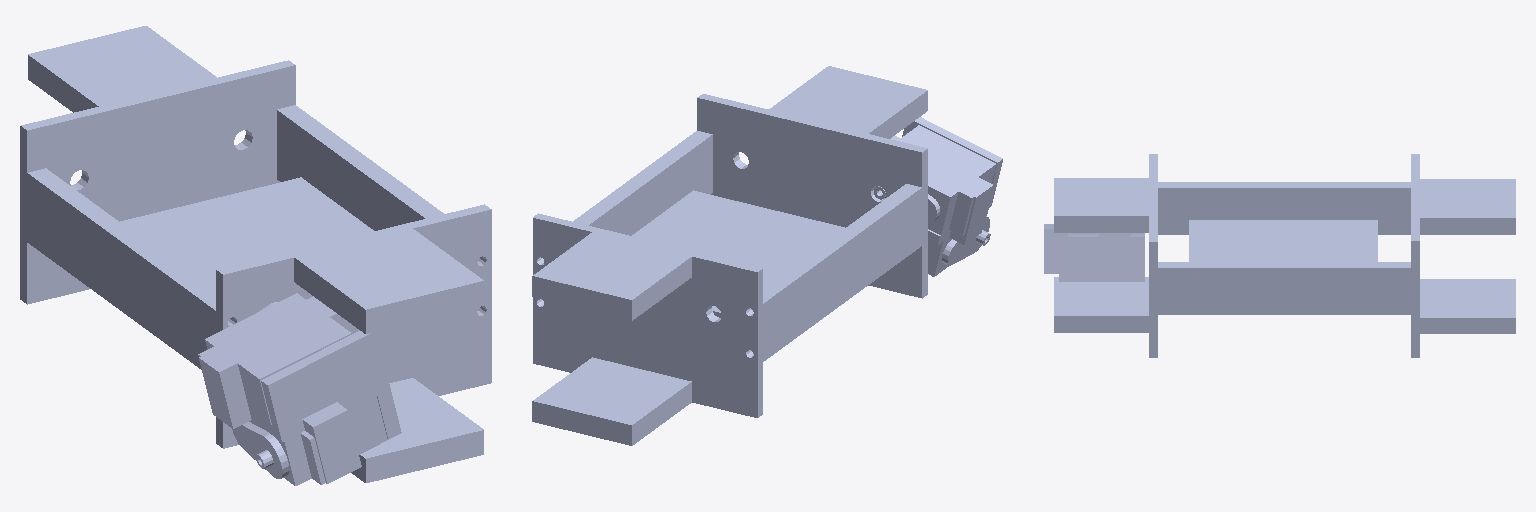
URDF robot description (chyPapa4):
<?xml version="1.0" encoding="utf-8"?>
<!-- This URDF was automatically created by SolidWorks to URDF Exporter! Originally created by [author] ([email redacted]) 
     Commit Version: 1.4.4-24-g24328f6  Build Version: 1.5.7084.36479
     For more information, please see http://wiki.ros.org/sw_urdf_exporter -->
<robot
  name="chyPapa4">
  <link
    name="base_link">
    <inertial>
      <origin
        xyz="-0.000487178621262223 -0.252099913027294 0.00309268435084005"
        rpy="0 0 0" />
      <mass
        value="0.322564149559201" />
      <inertia
        ixx="0.000359146302065018"
        ixy="-1.99175732926455E-06"
        ixz="-1.60625193941826E-06"
        iyy="0.000468722962125827"
        iyz="-1.46977761927697E-07"
        izz="0.000559624631238044" />
    </inertial>
    <visual>
      <origin
        xyz="0 0 0"
        rpy="0 0 0" />
      <geometry>
        <mesh
          filename="package://chyPapa4/meshes/base_link.STL" />
      </geometry>
      <material
        name="">
        <color
          rgba="0.792156862745098 0.819607843137255 0.933333333333333 1" />
      </material>
    </visual>
    <collision>
      <origin
        xyz="0 0 0"
        rpy="0 0 0" />
      <geometry>
        <mesh
          filename="package://chyPapa4/meshes/base_link.STL" />
      </geometry>
    </collision>
  </link>
  <link
    name="Link_Shoulder_fl">
    <inertial>
      <origin
        xyz="0.00685807239713296 0.00857459254063117 -0.0474254253257161"
        rpy="0 0 0" />
      <mass
        value="0.100243096491449" />
      <inertia
        ixx="2.42612831517242E-05"
        ixy="-1.86088562719443E-06"
        ixz="-5.53068094423275E-07"
        iyy="3.36320922407044E-05"
        iyz="5.03943629599621E-06"
        izz="2.70772599440709E-05" />
    </inertial>
    <visual>
      <origin
        xyz="0 0 0"
        rpy="0 0 0" />
      <geometry>
        <mesh
          filename="package://chyPapa4/meshes/Link_Shoulder_fl.STL" />
      </geometry>
      <material
        name="">
        <color
          rgba="0.792156862745098 0.819607843137255 0.933333333333333 1" />
      </material>
    </visual>
    <collision>
      <origin
        xyz="0 0 0"
        rpy="0 0 0" />
      <geometry>
        <mesh
          filename="package://chyPapa4/meshes/Link_Shoulder_fl.STL" />
      </geometry>
    </collision>
  </link>
  <joint
    name="Joint_Shoulder_Body_fl"
    type="revolute">
    <origin
      xyz="-0.03504 -0.30624 0.013326"
      rpy="1.123 0.29832 3.0894" />
    <parent
      link="base_link" />
    <child
      link="Link_Shoulder_fl" />
    <axis
      xyz="0.049886 -0.41855 0.90682" />
    <limit
      lower="-0.5"
      upper="1.5"
      effort="100"
      velocity="0" />
    <safety_controller
      k_velocity="0" />
  </joint>
</robot>

--- Facts derived from the render (not from the file) ---
3 views of the same robot in one strip: view 1: azimuth 30°, elevation 25°; view 2: azimuth 150°, elevation 25°; view 3: azimuth 270°, elevation 25° (orthographic).
Robot: chyPapa4 — 2 links, 1 joints (1 revolute); root link base_link; default pose: all joints at 0.
Links seen in each view (by area): view 1: base_link, Link_Shoulder_fl; view 2: base_link, Link_Shoulder_fl; view 3: base_link, Link_Shoulder_fl.
Link boxes in pixels (box(x1,y1,x2,y2)): base_link: box(20, 26, 491, 482); Link_Shoulder_fl: box(198, 293, 401, 485); base_link: box(532, 66, 927, 445); Link_Shoulder_fl: box(874, 117, 1002, 276); base_link: box(1054, 154, 1515, 357); Link_Shoulder_fl: box(1044, 224, 1144, 281).
Bounding box of the posed robot: 0.1304 × 0.257 × 0.0703 m (x, y, z).
Meshes: 2 distinct files referenced, 2 mesh visuals loaded (2 binary STL).
